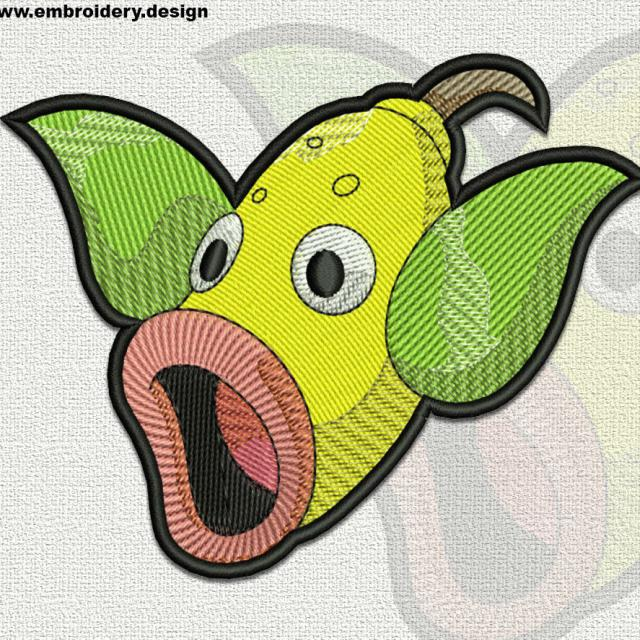Weepinbell: (104, 81, 482, 579)
